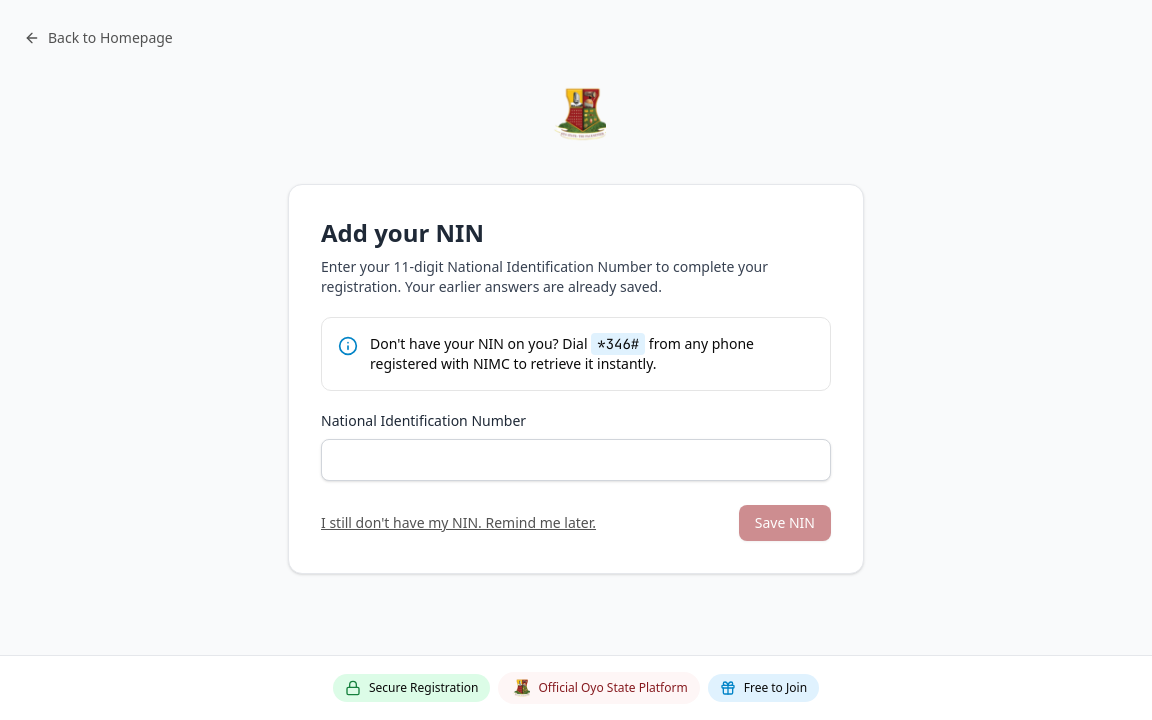
Scenario: CompleteNinPage (Story 9-12 Task 7) › clearing the duplicate state via "Try a different NIN" re-enables Save
Type "12345678901" into the field with test id "complete-nin-input".
click(576, 460); type("12345678901")  # box x1=321 y1=439 x2=831 y2=481
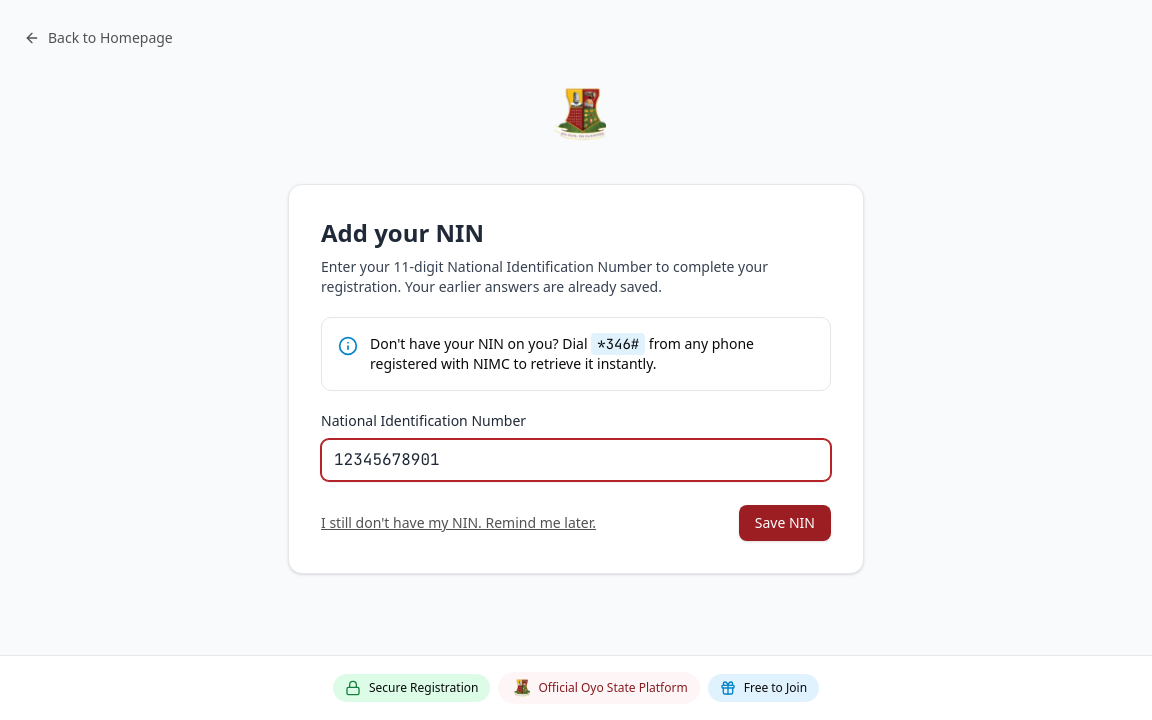
Click the button with test id "complete-nin-save".
click(785, 523)  # box x1=739 y1=505 x2=831 y2=541
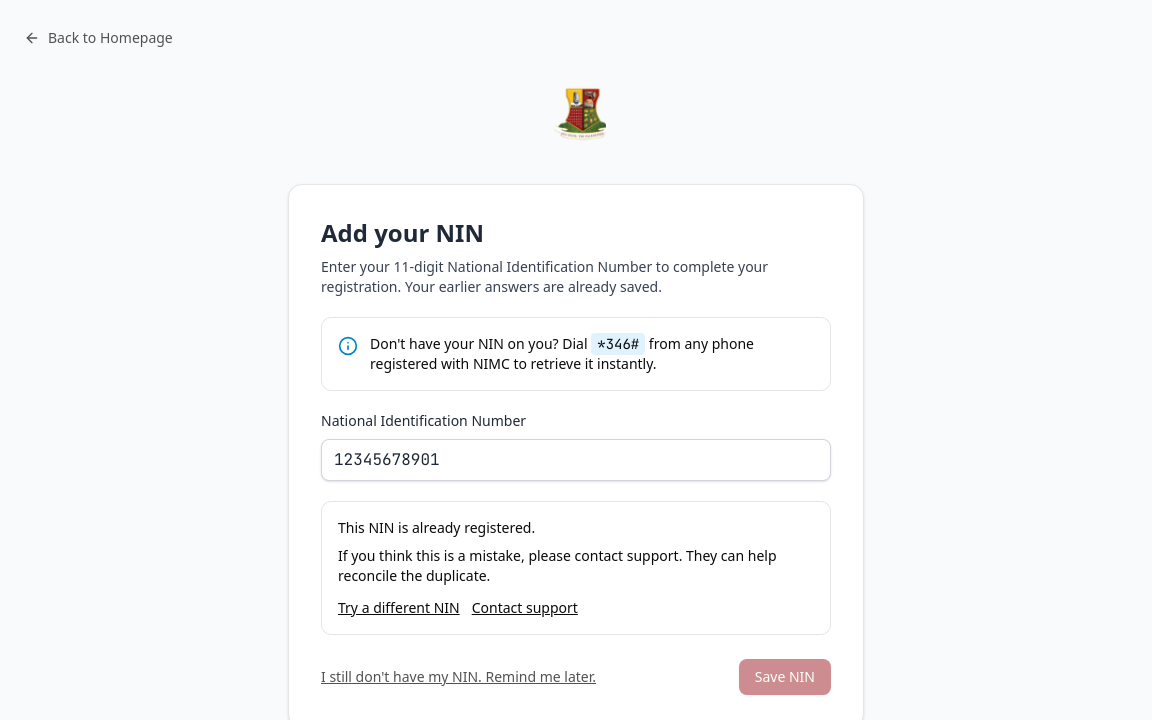
Now the message with test id "complete-nin-duplicate" is shown, box x1=321 y1=501 x2=831 y2=635
Click the button with test id "complete-nin-duplicate-back".
click(399, 608)  # box x1=338 y1=598 x2=460 y2=618
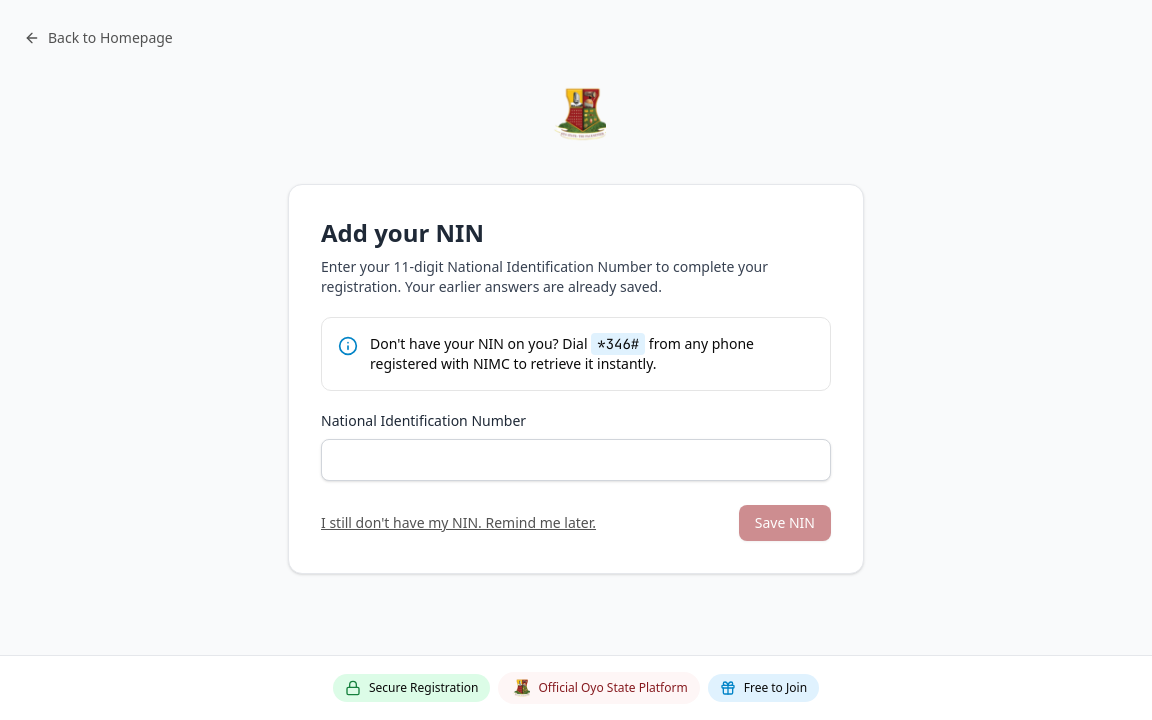
Now the message with test id "complete-nin-duplicate" is gone
Now the field with test id "complete-nin-input" is empty, box x1=321 y1=439 x2=831 y2=481
